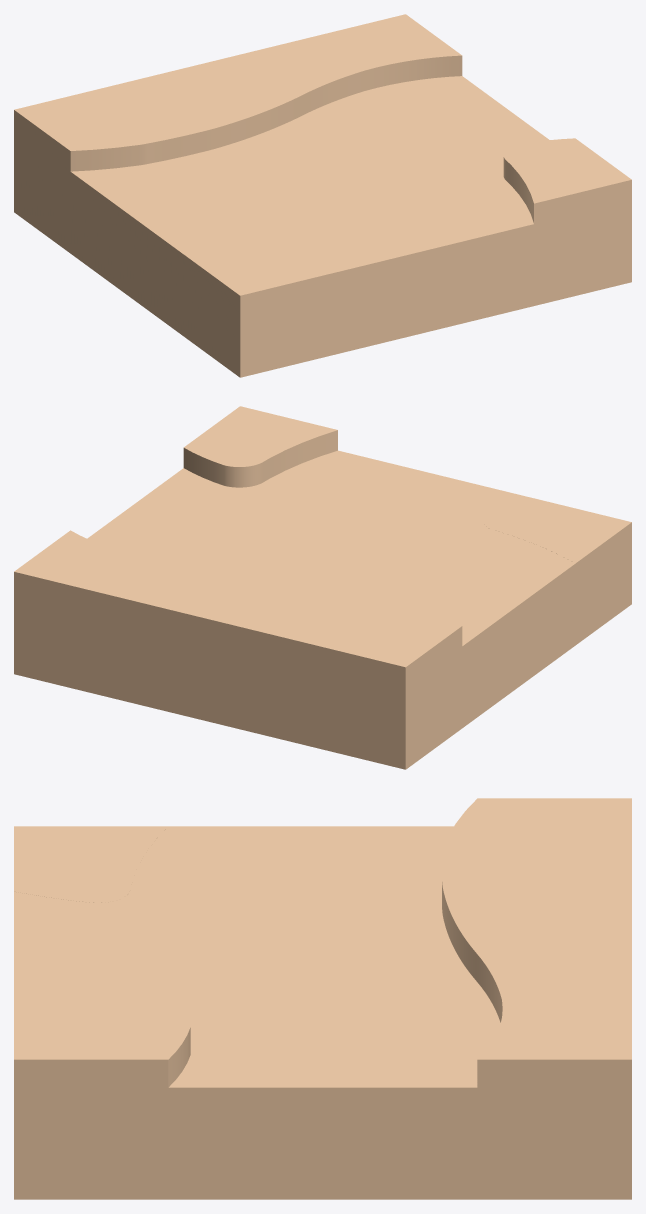
The model's file is ground_dirtRiverT-R.fbx.
The picture shows the model from 3 angles, top to bottom: view 1: azimuth 30°, elevation 25°; view 2: azimuth 150°, elevation 25°; view 3: azimuth 270°, elevation 25°; orthographic projection. The views are drawn at different scales.
Visible parts, largest first — view 1: ground_dirtRiverT; view 2: ground_dirtRiverT; view 3: ground_dirtRiverT.
Part boxes in pixels (left/top/right/bottom): ground_dirtRiverT: left=14, top=14, right=631, bottom=377; ground_dirtRiverT: left=14, top=406, right=631, bottom=769; ground_dirtRiverT: left=14, top=798, right=631, bottom=1199.
Bounding box in the file's own units: 1000 × 250 × 1000.
